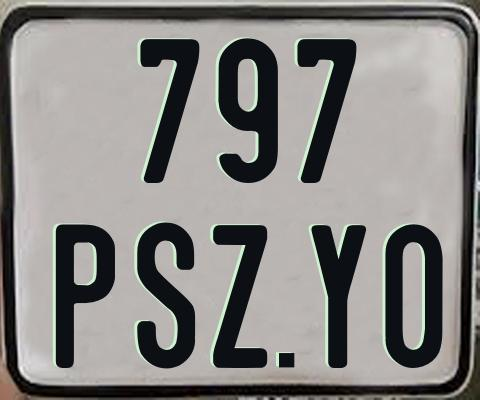0: (382, 221, 445, 366)
7: (294, 39, 359, 187), (140, 37, 204, 187)
9: (217, 37, 279, 182)
P: (56, 222, 117, 370)
S: (135, 220, 194, 370)
Y: (310, 225, 370, 374)
Z: (212, 225, 271, 374)
